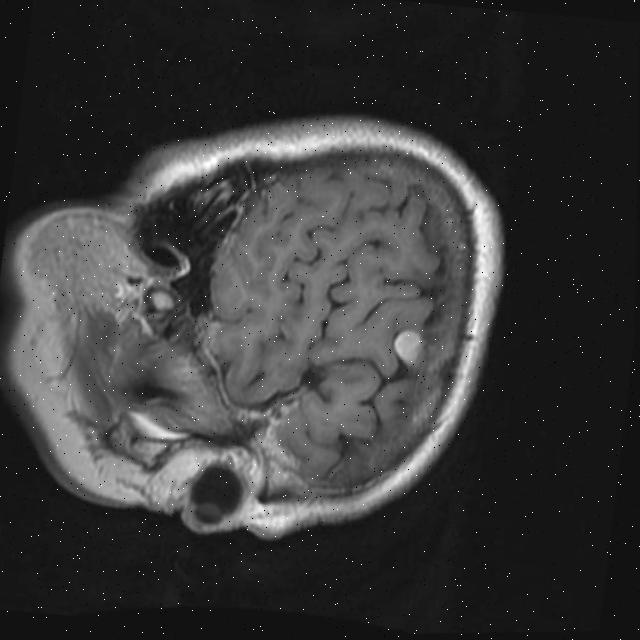Meningioma: (388, 328, 427, 367)
